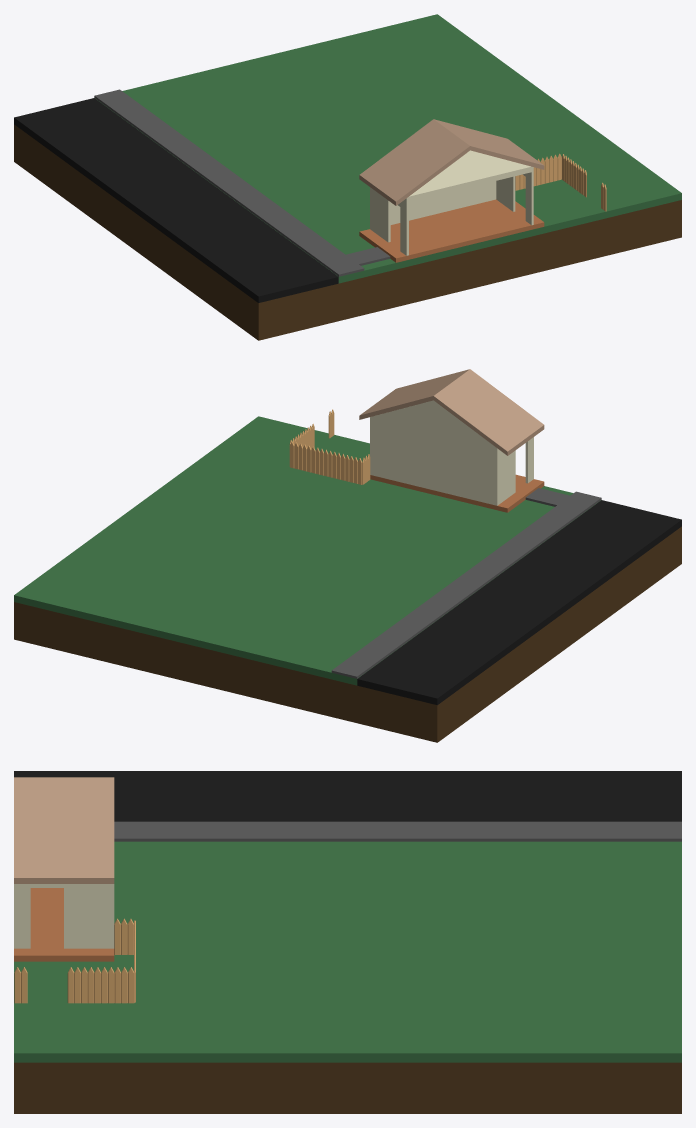
Rendered from layout.fbx.
The picture shows the model from 3 angles, top to bottom: view 1: azimuth 30°, elevation 25°; view 2: azimuth 150°, elevation 25°; view 3: azimuth 270°, elevation 25°; orthographic projection. The views are drawn at different scales.
Visible parts, largest first — view 1: Cube.001; view 2: Cube.001; view 3: Cube.001.
Part boxes in pixels (x1,y1,x2,y2): Cube.001: (14, 14, 681, 340); Cube.001: (14, 369, 681, 742); Cube.001: (14, 771, 681, 1113).
Bounding box in the file's own units: 2000 × 646 × 2000.
